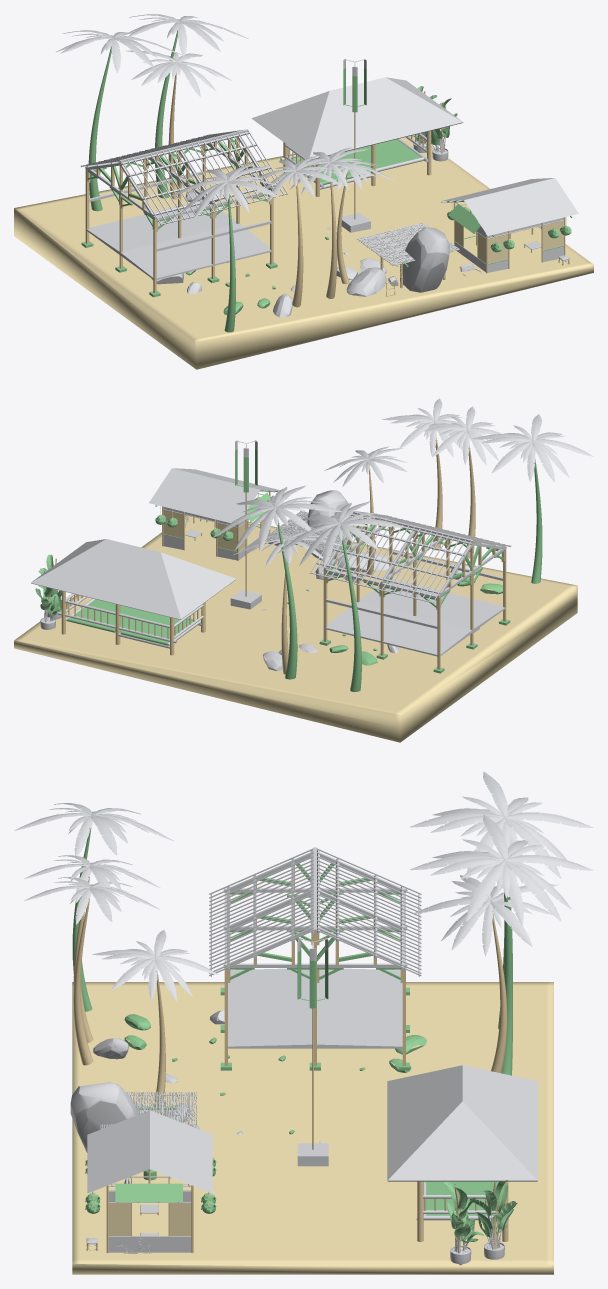
Rendered from escenario-hrotor.glb.
3 views of the same model, one above another, from view 1: azimuth 30°, elevation 25°; view 2: azimuth 150°, elevation 25°; view 3: azimuth 270°, elevation 25° (orthographic). The views are drawn at different scales.
Visible parts, largest first — view 1: Plane, MeshBody2.115, MeshBody1.434, MeshBody1.191, MeshBody1.192, Roundcube.001, Plane.003, Plane.002, Plane.004, Plane.001, Plane.007, MeshBody2.048 (+12 smaller); view 2: Plane, MeshBody2.115, MeshBody1.434, MeshBody1.192, MeshBody1.191, Plane.003, Plane.001, Plane.004, Plane.007, Plane.008, Plane.005, NurbsPath.002 (+13 smaller); view 3: Plane, MeshBody2.115, MeshBody1.434, MeshBody1.192, MeshBody1.191, Plane.004, Plane.001, Plane.002, Roundcube.001, Plane.005, Plane.003, Plane.008 (+12 smaller).
Boxes of the visible parts, x1,y1,x2,y2 form: Plane: (14, 136, 593, 369); MeshBody2.115: (252, 77, 463, 159); MeshBody1.434: (441, 178, 578, 235); MeshBody1.191: (120, 223, 269, 279); MeshBody1.192: (87, 202, 236, 254); Roundcube.001: (400, 227, 449, 292); Plane.003: (168, 164, 280, 218); Plane.002: (125, 50, 232, 96); Plane.004: (122, 14, 248, 56); Plane.001: (56, 30, 181, 72); Plane.007: (249, 155, 341, 202); MeshBody2.048: (455, 220, 563, 263); Plane: (14, 515, 577, 742); MeshBody2.115: (31, 539, 235, 619); MeshBody1.434: (149, 468, 279, 524); MeshBody1.192: (327, 602, 472, 655); MeshBody1.191: (360, 580, 505, 631); Plane.003: (472, 414, 593, 481); Plane.001: (277, 501, 406, 566); Plane.004: (212, 485, 341, 551); Plane.007: (416, 406, 512, 464); Plane.008: (382, 398, 486, 456); Plane.005: (324, 446, 407, 486); NurbsPath.002: (277, 520, 297, 679); Plane: (72, 982, 553, 1274); MeshBody2.115: (387, 1065, 537, 1181); MeshBody1.434: (87, 1110, 212, 1193); MeshBody1.192: (317, 968, 402, 1048); MeshBody1.191: (228, 968, 312, 1048); Plane.004: (409, 814, 593, 926); Plane.001: (410, 771, 593, 883); Plane.002: (414, 875, 558, 956); Roundcube.001: (70, 1082, 139, 1152); Plane.005: (92, 930, 218, 1000); Plane.003: (14, 803, 173, 855); Plane.008: (24, 877, 160, 924).
Size of the model in its own units: 9.41 by 4.31 by 8.61.
